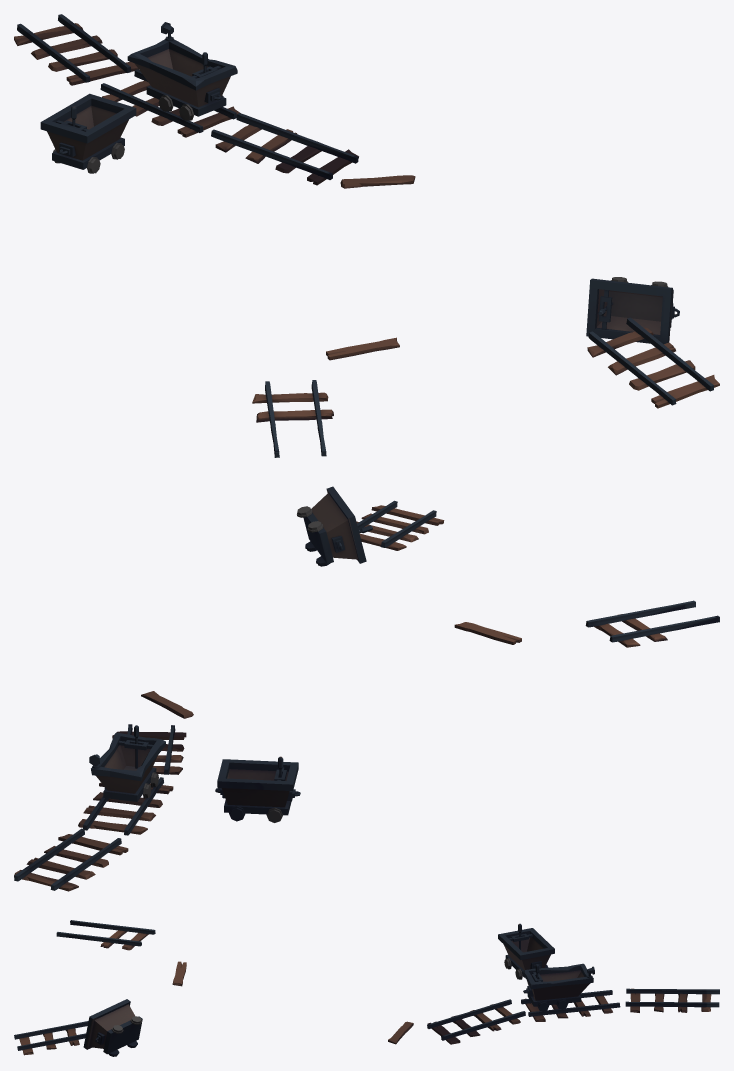
Rendered from Rail_01.FBX.
3 renders of one model, top to bottom at view 1: azimuth 30°, elevation 25°; view 2: azimuth 150°, elevation 25°; view 3: azimuth 270°, elevation 25°, orthographic. The views are drawn at different scales.
Parts seen in each view (by area): view 1: Rail_01; view 2: Rail_01; view 3: Rail_01.
Part boxes in pixels (x1,y1,x2,y2): Rail_01: (14,14,719,457); Rail_01: (14,486,719,891); Rail_01: (14,920,719,1056).
Size of the model in its own units: 13.47 by 2.43 by 29.22.
